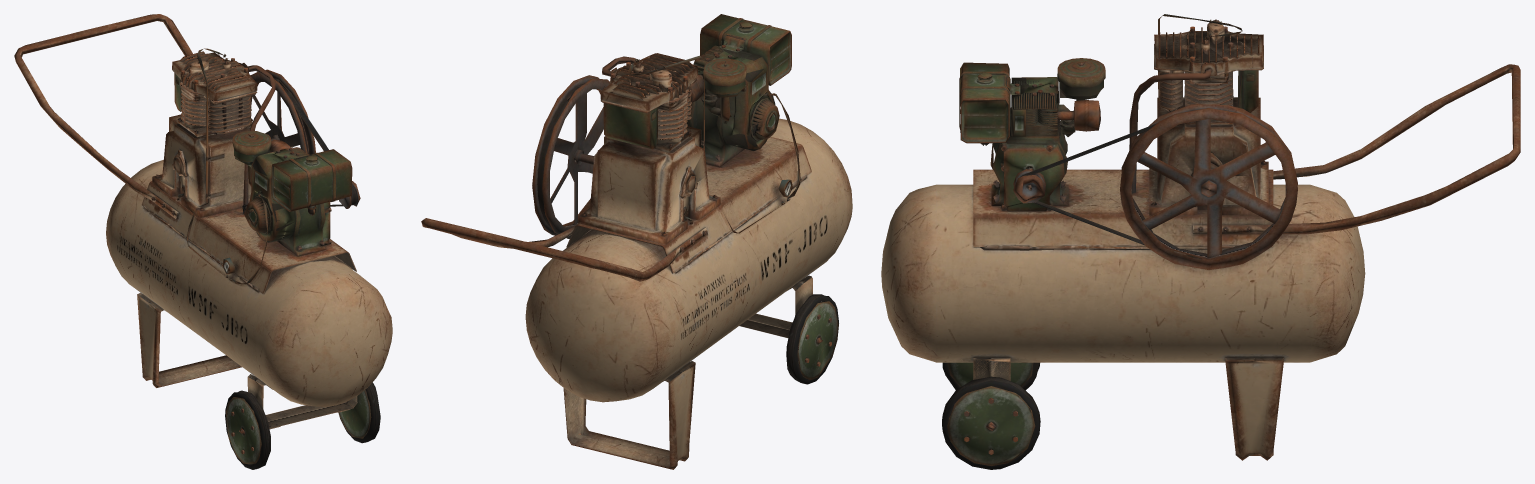
Rendered from old_military_compressor.glb.
The picture shows the model from 3 angles, left to right: view 1: azimuth 30°, elevation 25°; view 2: azimuth 150°, elevation 25°; view 3: azimuth 270°, elevation 25°; orthographic projection. The views are drawn at different scales.
Visible parts, largest first — view 1: old_military_compressor; view 2: old_military_compressor; view 3: old_military_compressor.
Boxes of the visible parts, left/top/right/bottom form: old_military_compressor: left=14, top=14, right=392, bottom=469; old_military_compressor: left=421, top=14, right=852, bottom=469; old_military_compressor: left=881, top=14, right=1520, bottom=469.
Bounding box in the file's own units: 0.5957 × 1.18 × 1.67.
2 materials, 2 textured.
